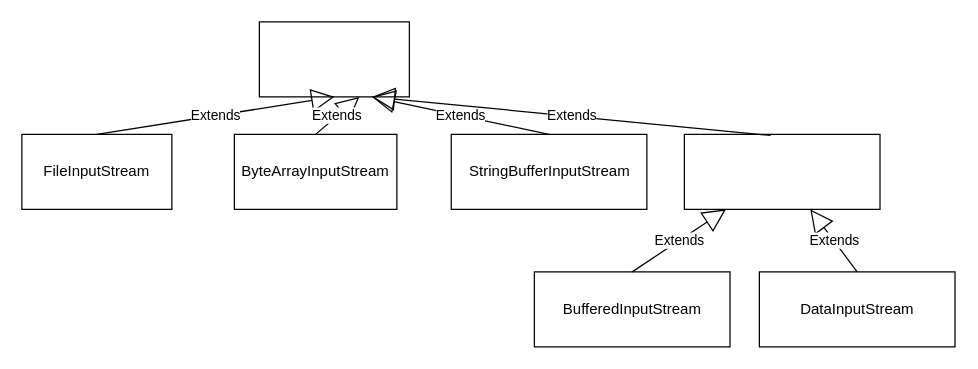
Some shapes in this 978 by 369 pixel diagram are drawn without their labels. Here are the shapes that lost their labels. From the top down, the centre of each, then its label:
point (333, 59): InputStream
point (781, 171): FilterInputStream
